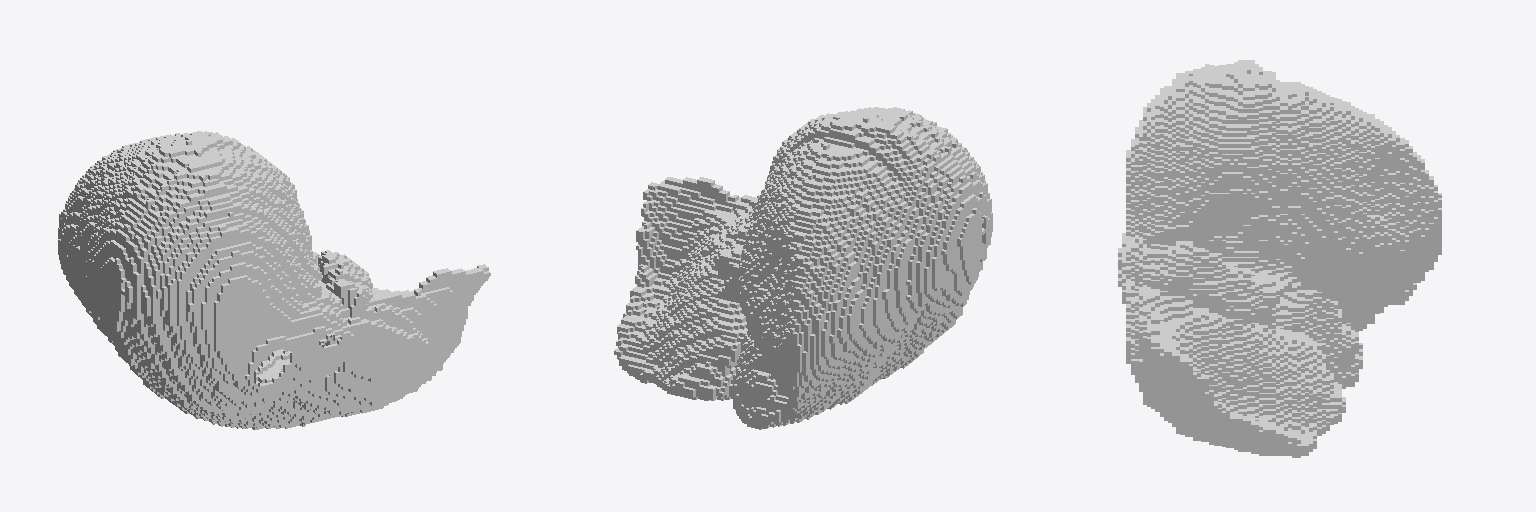
3 renders of one model, left to right at view 1: azimuth 30°, elevation 25°; view 2: azimuth 150°, elevation 25°; view 3: azimuth 270°, elevation 25°, orthographic.
Parts seen in each view (by area): view 1: anObject; view 2: anObject; view 3: anObject.
Boxes of the visible parts, <box> form: anObject: <box>58,131,490,429</box>; anObject: <box>614,107,992,429</box>; anObject: <box>1118,60,1441,457</box>.
Bounding box in the file's own units: 97 × 78 × 78.